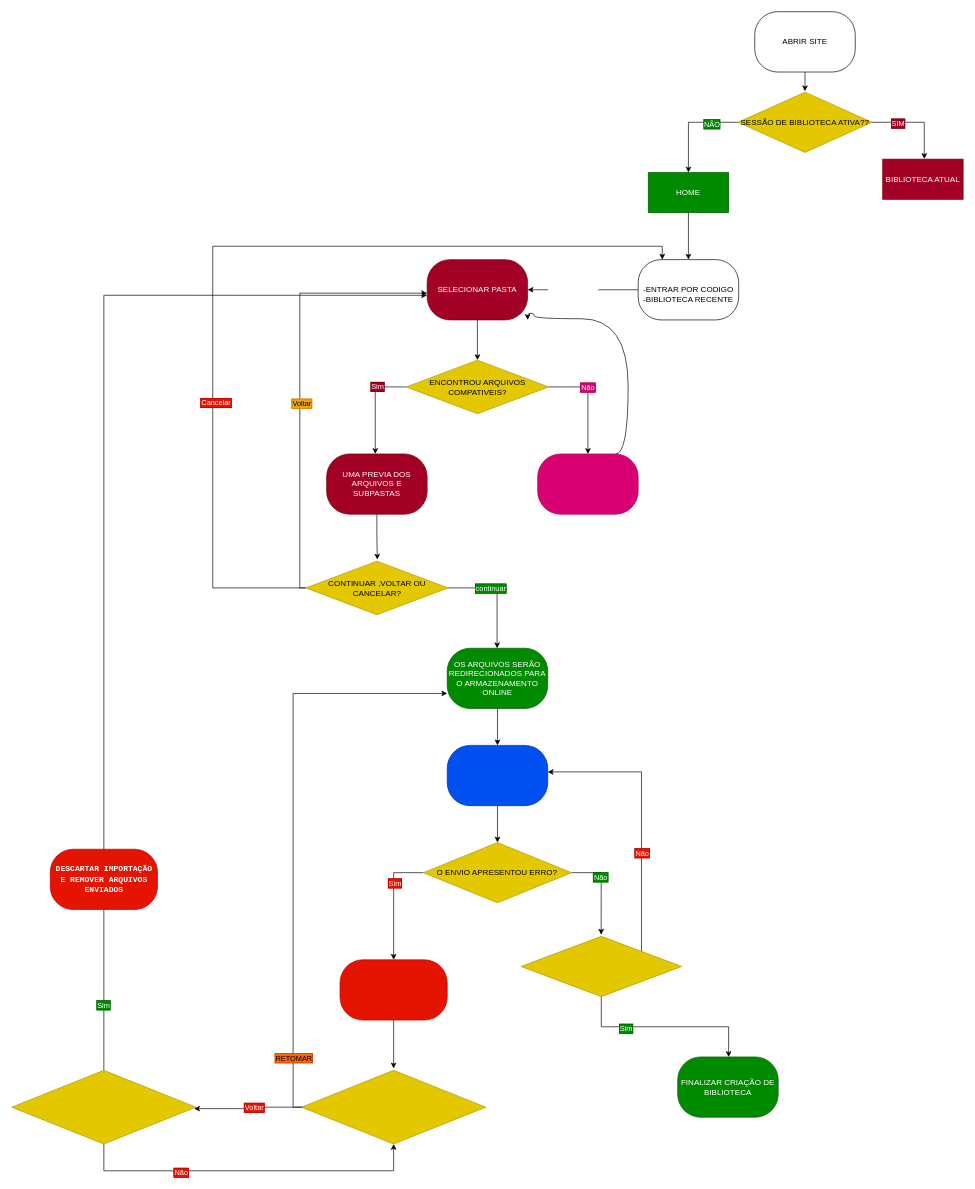
Some shapes in this 975 by 1189 pixel diagram are drawn without their labels. The shapes that lost their labels are listed below. From the top down, each one's centre as x and y in pixels, then its label:
At point 587,483: "MOSTRAR QUE NÃO EXISTE ARQUIVOS COMPATIVEIS NA PASTA".
At point 497,775: "EXIBIR % DE ENVIO".
At point 601,966: "TODOS OS ARQUIVOS FORAM ENVIADOS?".
At point 393,989: "ANALISA QUAL FOI O PROBLEMA E EXIBIR PARA O USUARIO".
At point 103,1107: "VOCÊ PERDERA TODOS OS ARQUIVOS JA ENVIADOS, TEM CERTEZA QUE DESEJA VOLTAR?".
At point 393,1107: "DAR A OPÇÃO DE: -RETOMAR ARQUIVOS PENDENTES -VOLTAR".
